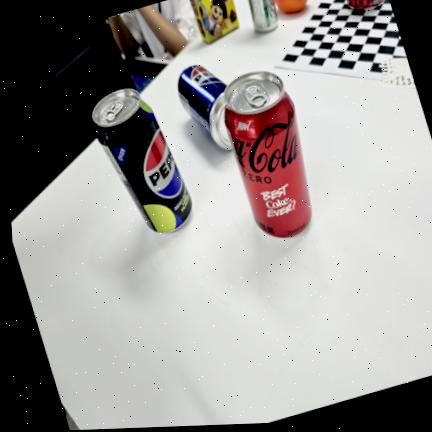can_coke_zero: (223, 70, 311, 237)
can_pepsi: (177, 65, 231, 151)
can_pepsi_zero: (92, 88, 191, 232)
